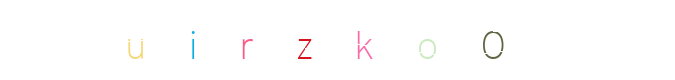0: (452, 0, 532, 80)
I: (153, 0, 233, 80)
K: (297, 0, 377, 80)
O: (355, 0, 435, 80)
R: (264, 0, 344, 80)
U: (97, 0, 177, 80)
Z: (271, 0, 351, 80)
